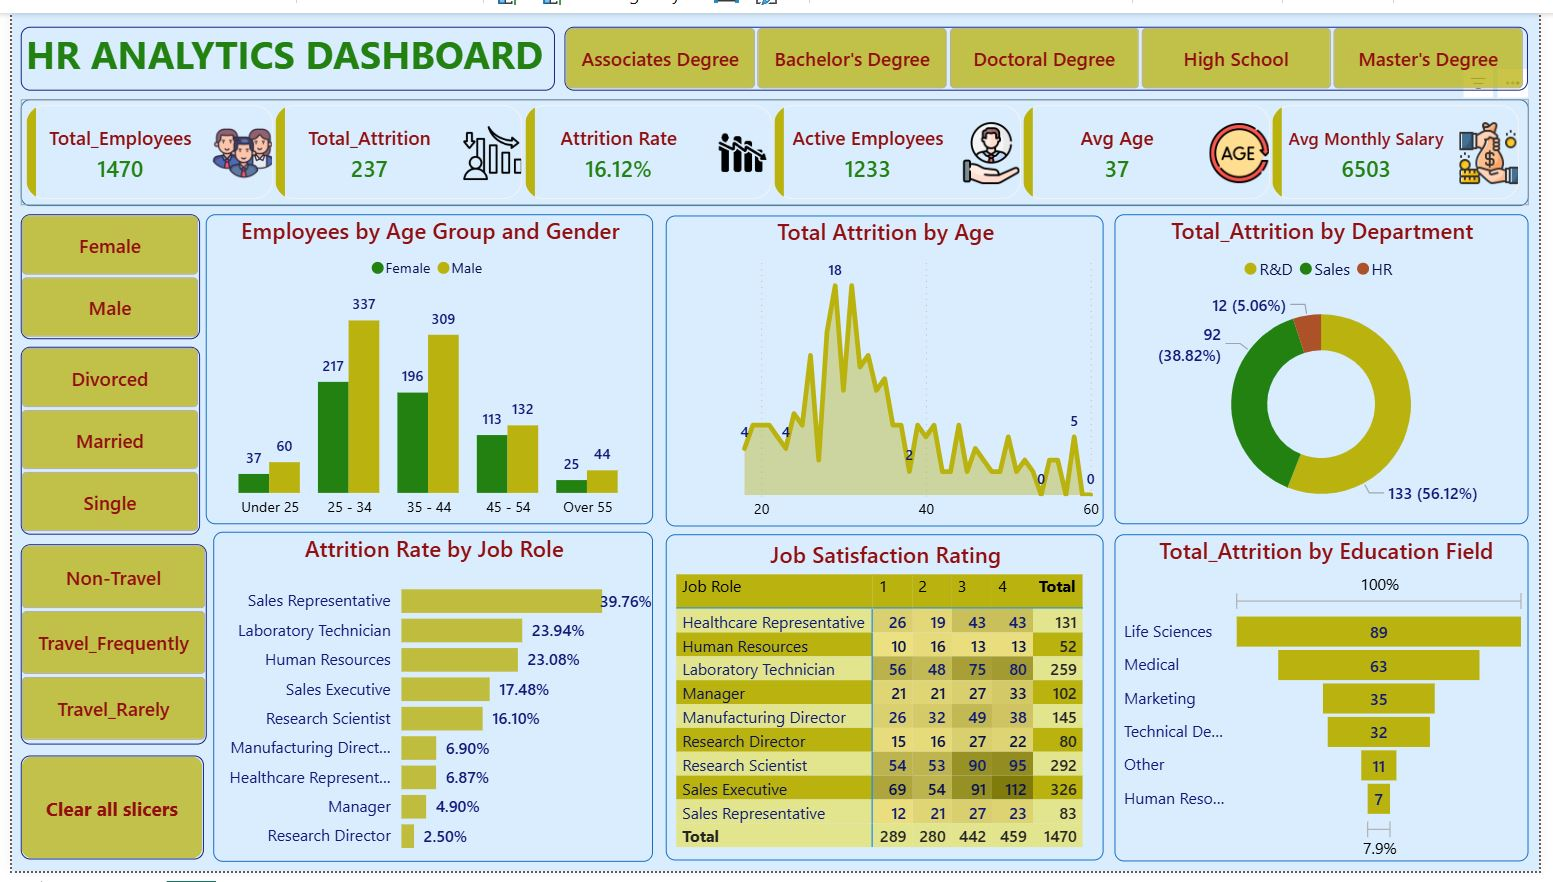

What the dashboard file says about the page in this screenshot:
{"tool":"powerbi","page":{"name":"DashBoard","canvas":[1280,720],"ordinal":0},"visuals":[{"type":"cardVisual","fields":{"Data":["HR data.Total_Employees","HR data.Total_Attrition","HR data.Attrition Rate","HR data.Active Employees","Avg(HR data.Age)","Avg(HR data.Monthly Income)"]},"box":[6.9,72.4,1264.7,89.6],"z":0},{"type":"clusteredColumnChart","title":"Employees by Age Group and Gender","fields":{"Category":["HR data.Age Group"],"Y":["HR data.Total_Employees"],"Series":["HR data.Gender"]},"box":[163,169,375.1,260.1],"z":1000},{"type":"areaChart","title":"Total Attrition by Age","fields":{"Category":["HR data.Age"],"Y":["HR data.Total_Attrition"]},"box":[547.9,170,367.6,260.8],"z":2000},{"type":"donutChart","fields":{"Category":["HR data.Department"],"Y":["HR data.Total_Attrition"]},"box":[924.7,168.9,346.9,259.6],"z":3000},{"type":"clusteredBarChart","fields":{"Y":["HR data.Attrition Rate"],"Category":["HR data.Job Role"]},"box":[169,435.1,369.1,276.9],"z":4000},{"type":"pivotTable","title":"Job Satisfaction Rating","fields":{"Columns":["HR data.Job Satisfaction"],"Rows":["HR data.Job Role"],"Values":["HR data.Total_Employees"]},"box":[547.9,437.7,367.6,273.4],"z":5000},{"type":"funnel","fields":{"Category":["HR data.Education Field"],"Y":["HR data.Total_Attrition"]},"box":[924.7,437.7,346.9,274.5],"z":6000},{"type":"advancedSlicerVisual","fields":{"Values":["HR data.Gender"]},"box":[6.9,168.9,150.5,105],"z":6001},{"type":"advancedSlicerVisual","fields":{"Values":["HR data.Marital Status"]},"box":[6.9,280.3,150.5,157.4],"z":6002},{"type":"advancedSlicerVisual","fields":{"Values":["HR data.Business Travel"]},"box":[7.2,445.8,156,167.8],"z":6003},{"type":"advancedSlicerVisual","fields":{"Values":["HR data.Education"]},"box":[463.8,12,807.8,53.9],"z":6004},{"type":"actionButton","box":[7.2,623.2,153.4,87.5],"z":6005},{"type":"textbox","box":[7.2,12,448.2,53.9],"z":6006}]}

Visuals, with their boxes in screenshot pixels (x1, y1, x2, y2), scaled from the page's 1280x720 canvas onto the 1553x882 screenshot:
cardVisual - HR data.Total_Employees x HR data.Total_Attrition: BBox(8, 89, 1543, 198)
"Employees by Age Group and Gender" clusteredColumnChart: BBox(198, 207, 653, 526)
"Total Attrition by Age" areaChart: BBox(665, 208, 1111, 528)
donutChart - HR data.Department x HR data.Total_Attrition: BBox(1122, 207, 1543, 525)
clusteredBarChart - HR data.Attrition Rate x HR data.Job Role: BBox(205, 533, 653, 872)
"Job Satisfaction Rating" pivotTable: BBox(665, 536, 1111, 871)
funnel - HR data.Education Field x HR data.Total_Attrition: BBox(1122, 536, 1543, 872)
advancedSlicerVisual - HR data.Gender: BBox(8, 207, 191, 336)
advancedSlicerVisual - HR data.Marital Status: BBox(8, 343, 191, 536)
advancedSlicerVisual - HR data.Business Travel: BBox(9, 546, 198, 752)
advancedSlicerVisual - HR data.Education: BBox(563, 15, 1543, 81)
actionButton: BBox(9, 763, 195, 871)
textbox: BBox(9, 15, 553, 81)
